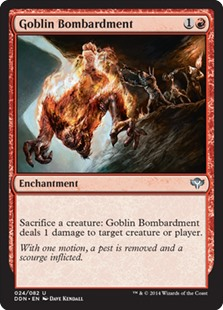artist: (47, 294, 84, 303)
cmc: (180, 15, 208, 31)
image: (18, 35, 205, 173)
name: (19, 17, 135, 32)
set: (188, 175, 206, 192)
text: (17, 215, 204, 264)
type: (19, 176, 80, 190)
